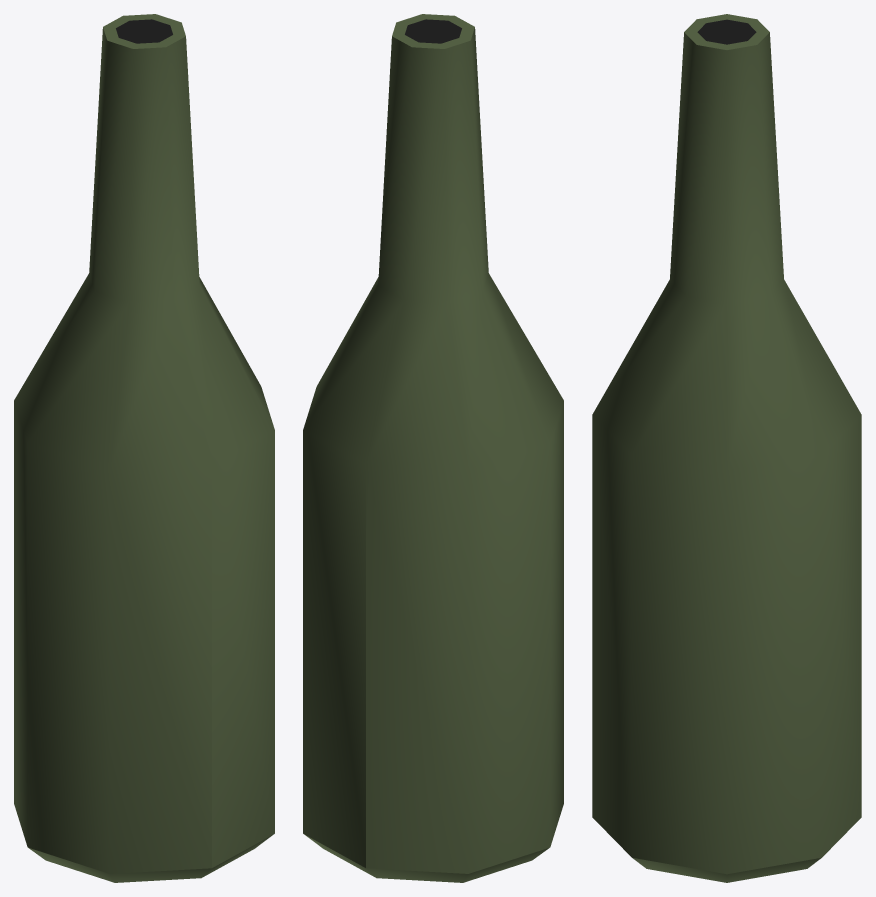
Rendered from SM_Props_Garbage_04.fbx.
3 views of the same model, side by side, from view 1: azimuth 30°, elevation 25°; view 2: azimuth 150°, elevation 25°; view 3: azimuth 270°, elevation 25° (orthographic).
Visible parts, largest first — view 1: SM_Props_Garbage_04; view 2: SM_Props_Garbage_04; view 3: SM_Props_Garbage_04.
Part boxes in pixels (x1,y1,x2,y2): SM_Props_Garbage_04: (14,14,274,882); SM_Props_Garbage_04: (303,14,563,882); SM_Props_Garbage_04: (592,14,861,882).
Size of the model in its own units: 0.0805 by 0.265 by 0.0805.
